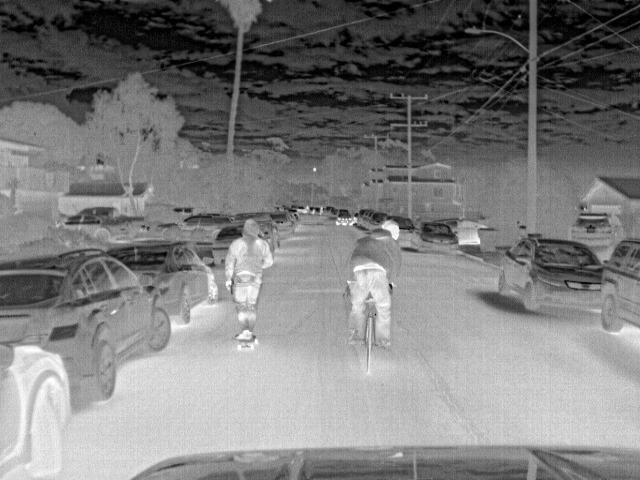car: (2, 252, 174, 398), (3, 340, 75, 478), (107, 243, 218, 328), (496, 236, 602, 314), (595, 236, 639, 336), (58, 211, 132, 242), (77, 207, 149, 236), (435, 216, 494, 246), (569, 211, 612, 248), (209, 224, 243, 262), (419, 223, 458, 254), (245, 218, 279, 252), (392, 214, 422, 246), (179, 214, 229, 230), (271, 212, 294, 231), (335, 207, 356, 225)
person: (344, 220, 403, 347), (218, 218, 272, 342)
